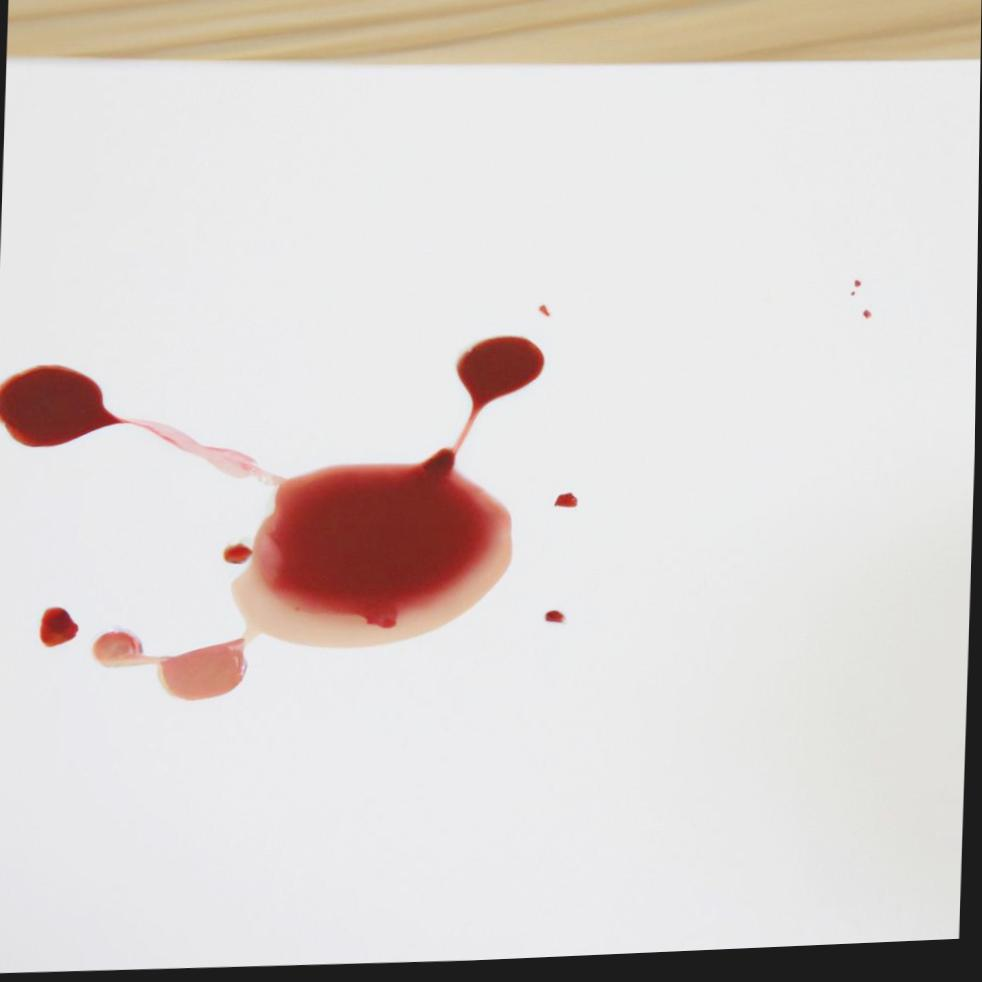Fire: (0, 340, 545, 702), (42, 607, 81, 647), (556, 497, 579, 513), (547, 615, 567, 628)
